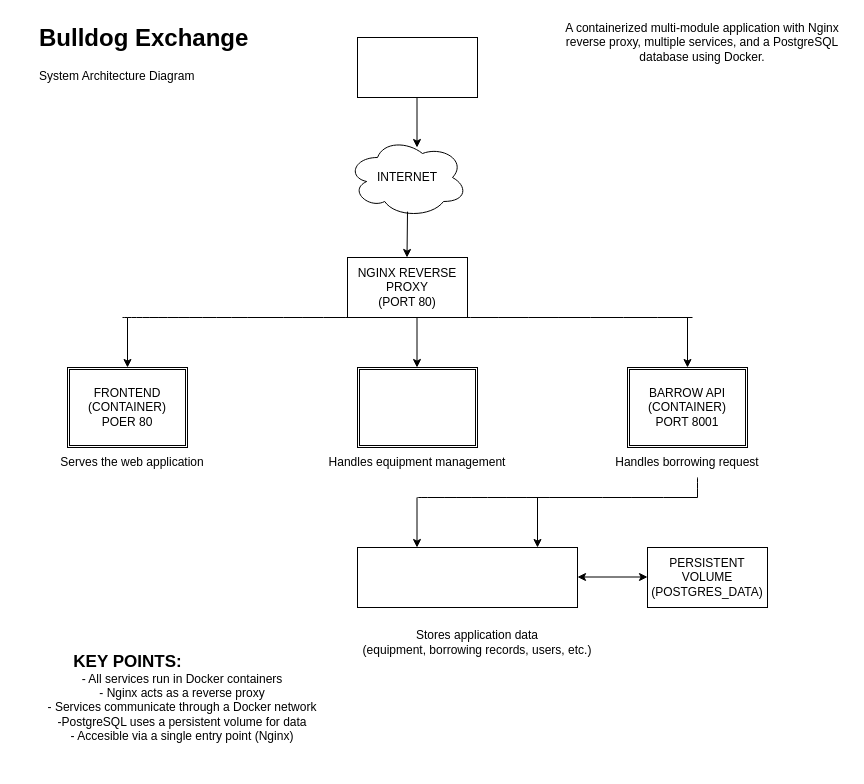
Some shapes in this 864 by 784 pixel diagram are drawn without their labels. The shapes that lost their labels are listed below. From the top down, each one's centre as x and y in pixels, then its label:
At pixel 417 67: "USER".
At pixel 417 407: "EQUIPMENT API (CONTAINER) PORT 8000".
At pixel 467 577: "POSTGRESQL DATABASE (CONTAINER) PORT 5432".
